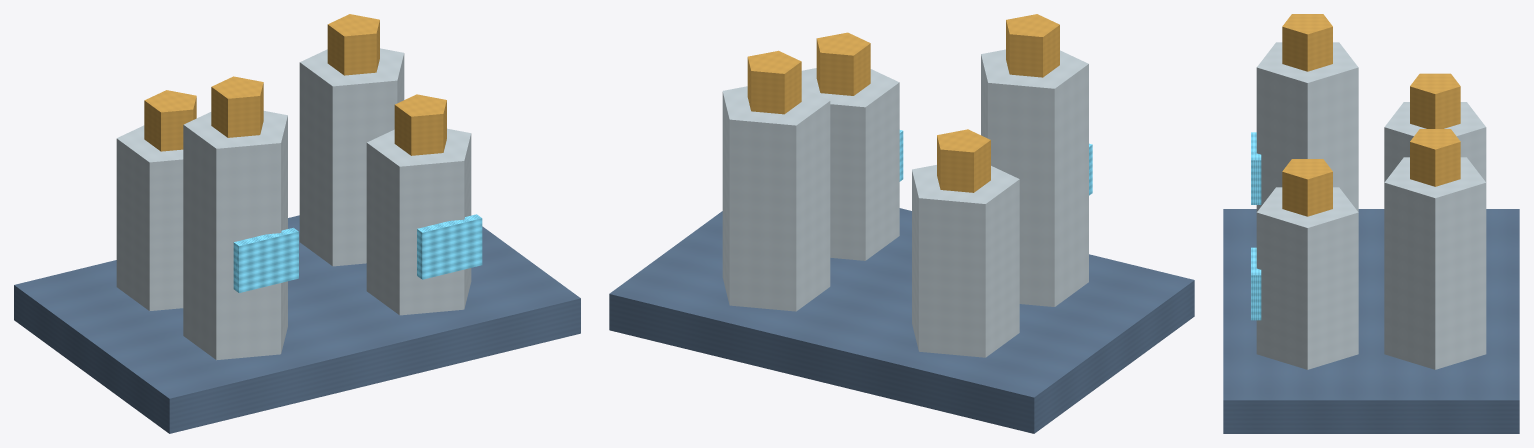
File: atlas100-s054-a04.lod1.glb
The picture shows the model from 3 angles, left to right: view 1: azimuth 30°, elevation 25°; view 2: azimuth 150°, elevation 25°; view 3: azimuth 270°, elevation 25°; orthographic projection. The views are drawn at different scales.
Visible parts, largest first — view 1: atlas100-s054-a04:part-000, atlas100-s054-a04:part-007, atlas100-s054-a04:part-004, atlas100-s054-a04:part-010, atlas100-s054-a04:part-001, atlas100-s054-a04:part-012, atlas100-s054-a04:part-009, atlas100-s054-a04:part-005, atlas100-s054-a04:part-008, atlas100-s054-a04:part-011, atlas100-s054-a04:part-002; view 2: atlas100-s054-a04:part-000, atlas100-s054-a04:part-004, atlas100-s054-a04:part-007, atlas100-s054-a04:part-001, atlas100-s054-a04:part-010, atlas100-s054-a04:part-005, atlas100-s054-a04:part-011, atlas100-s054-a04:part-002, atlas100-s054-a04:part-008; view 3: atlas100-s054-a04:part-000, atlas100-s054-a04:part-004, atlas100-s054-a04:part-010, atlas100-s054-a04:part-007, atlas100-s054-a04:part-001, atlas100-s054-a04:part-005, atlas100-s054-a04:part-011, atlas100-s054-a04:part-008, atlas100-s054-a04:part-002, atlas100-s054-a04:part-012, atlas100-s054-a04:part-009.
Part boxes in pixels (x1,y1,x2,y2): atlas100-s054-a04:part-000: (14, 215, 580, 433); atlas100-s054-a04:part-007: (183, 111, 287, 360); atlas100-s054-a04:part-004: (299, 48, 404, 266); atlas100-s054-a04:part-010: (366, 128, 471, 315); atlas100-s054-a04:part-001: (116, 125, 183, 310); atlas100-s054-a04:part-012: (417, 214, 482, 279); atlas100-s054-a04:part-009: (233, 227, 298, 292); atlas100-s054-a04:part-005: (327, 14, 379, 75); atlas100-s054-a04:part-008: (211, 76, 263, 137); atlas100-s054-a04:part-011: (394, 94, 446, 155); atlas100-s054-a04:part-002: (144, 90, 196, 151); atlas100-s054-a04:part-000: (609, 208, 1194, 433); atlas100-s054-a04:part-004: (722, 86, 830, 311); atlas100-s054-a04:part-007: (981, 49, 1088, 306); atlas100-s054-a04:part-001: (912, 165, 1019, 357); atlas100-s054-a04:part-010: (801, 68, 899, 260); atlas100-s054-a04:part-005: (747, 50, 801, 114); atlas100-s054-a04:part-011: (816, 32, 870, 95); atlas100-s054-a04:part-002: (937, 129, 990, 192); atlas100-s054-a04:part-008: (1006, 14, 1059, 77); atlas100-s054-a04:part-000: (1223, 209, 1519, 433); atlas100-s054-a04:part-004: (1384, 157, 1486, 369); atlas100-s054-a04:part-010: (1256, 187, 1358, 369); atlas100-s054-a04:part-007: (1256, 42, 1358, 211); atlas100-s054-a04:part-001: (1384, 102, 1486, 182); atlas100-s054-a04:part-005: (1410, 129, 1460, 186); atlas100-s054-a04:part-011: (1282, 159, 1332, 216); atlas100-s054-a04:part-008: (1282, 14, 1332, 71); atlas100-s054-a04:part-002: (1410, 73, 1460, 128); atlas100-s054-a04:part-012: (1251, 247, 1261, 320); atlas100-s054-a04:part-009: (1251, 132, 1261, 204).
Bounding box in the file's own units: 1.18 × 0.7804 × 0.7697.
4 materials, 4 textured.
